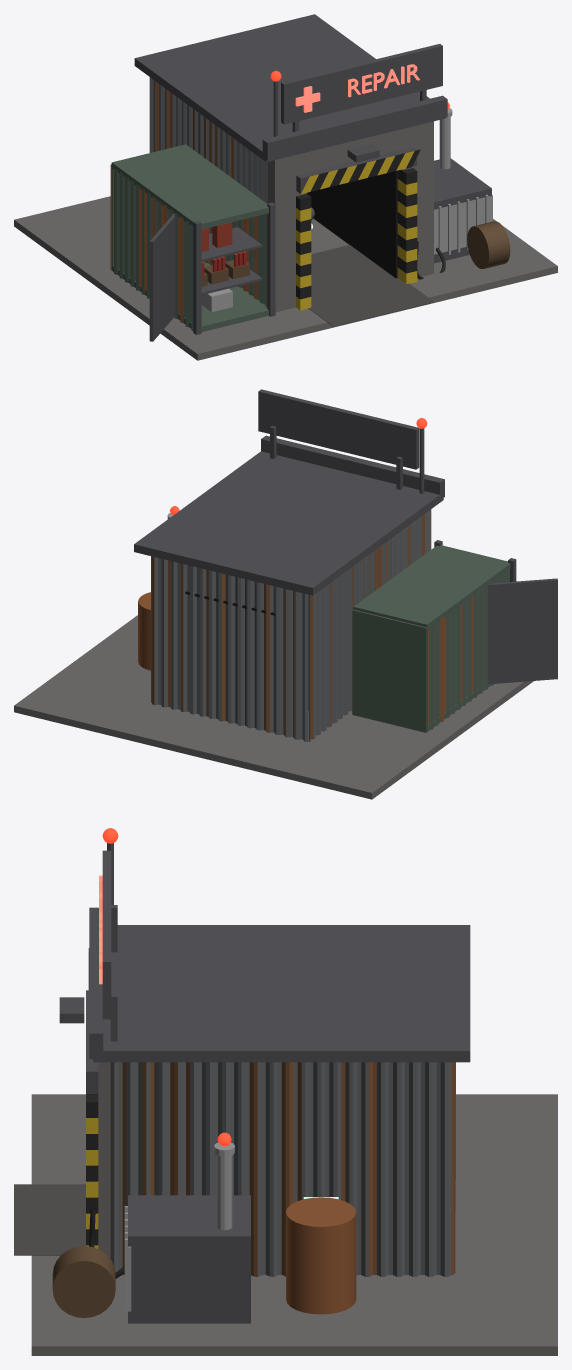
File: repair_shop.glb
3 views of the same model, one above another, from view 1: azimuth 30°, elevation 25°; view 2: azimuth 150°, elevation 25°; view 3: azimuth 270°, elevation 25° (orthographic). The views are drawn at different scales.
Parts seen in each view (by area): view 1: Pad, HallRoof, ContainerShell, HallFront, ContainerSides, BayFrame, ContainerRack, SignBoard, BayInterior, HallWalls, Generator, Items (+3 smaller); view 2: HallWalls, HallRoof, Pad, ContainerShell, SignBoard, ContainerRack, ContainerSides, CoolantTank; view 3: Pad, HallWalls, HallRoof, Generator, CoolantTank, CableSpool, HallFront, BayFrame, SignBoard, BayLight.
Boxes of the visible parts, <box> form: Pad: <box>14,196,557,360</box>; HallRoof: <box>134,14,447,162</box>; ContainerShell: <box>110,144,268,331</box>; HallFront: <box>268,121,433,312</box>; ContainerSides: <box>111,165,267,330</box>; BayFrame: <box>296,147,420,310</box>; ContainerRack: <box>149,202,275,341</box>; SignBoard: <box>281,44,442,131</box>; BayInterior: <box>307,170,397,278</box>; HallWalls: <box>149,77,267,203</box>; Generator: <box>434,108,492,263</box>; Items: <box>201,222,249,312</box>; HallWalls: <box>151,514,424,741</box>; HallRoof: <box>134,435,444,595</box>; Pad: <box>14,615,533,799</box>; ContainerShell: <box>352,545,510,732</box>; SignBoard: <box>258,389,419,489</box>; ContainerRack: <box>434,540,557,684</box>; ContainerSides: <box>353,568,509,731</box>; CoolantTank: <box>138,592,150,670</box>; Pad: <box>14,1094,557,1355</box>; HallWalls: <box>110,1062,455,1276</box>; HallRoof: <box>89,907,470,1062</box>; Generator: <box>124,1142,250,1323</box>; CoolantTank: <box>286,1197,356,1314</box>; CableSpool: <box>52,1246,115,1317</box>; HallFront: <box>98,1062,122,1275</box>; BayFrame: <box>86,990,98,1248</box>; SignBoard: <box>102,850,117,1041</box>; BayLight: <box>59,997,84,1023</box>.
Size of the model in its own units: 3.64 by 2.2 by 3.1.
